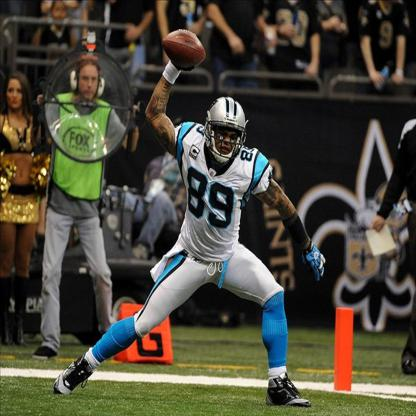face: (213, 120, 242, 162), (78, 73, 100, 102), (7, 83, 24, 112), (52, 1, 69, 28)
